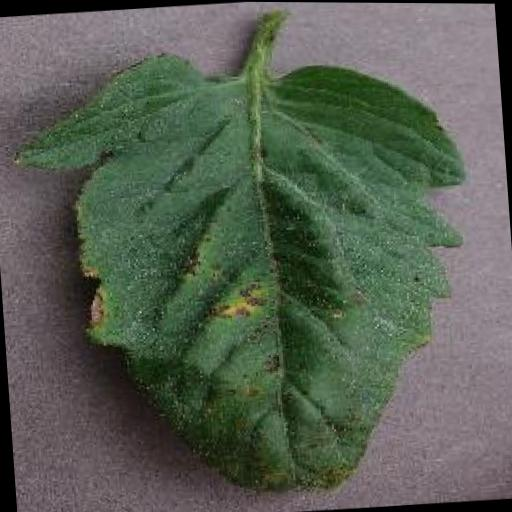Bacterial Spot: (4, 31, 488, 512)
